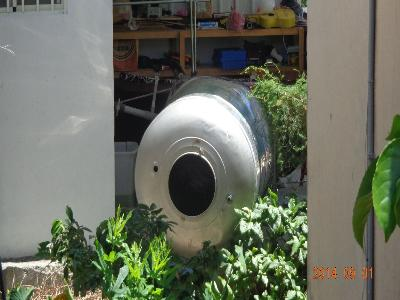water_tower: (133, 75, 276, 266)
